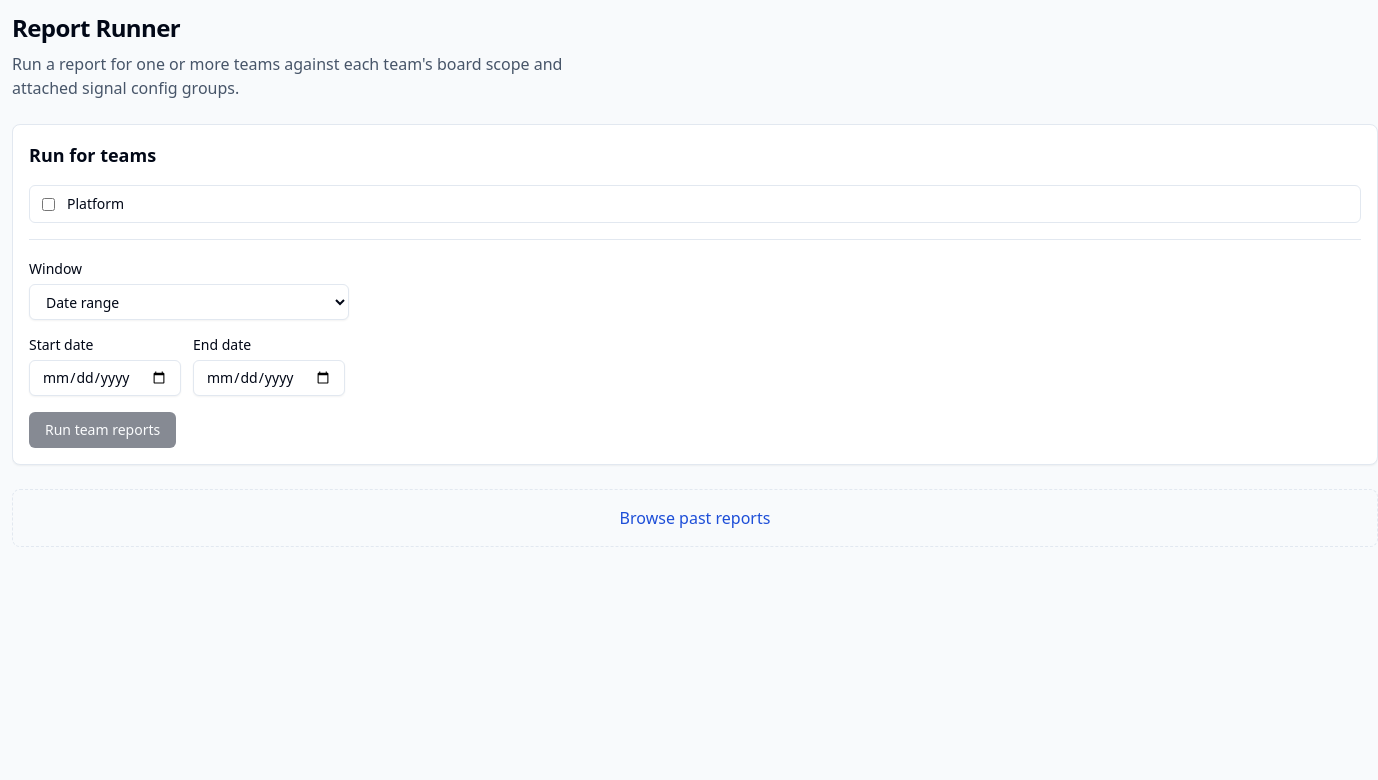
Scenario: ReportRunnerPage › renders the Active sprint option for a scrum team and defaults to sprint mode
Click the checkbox labelled "Platform".
click(48, 204)  # box [42,198,55,210]
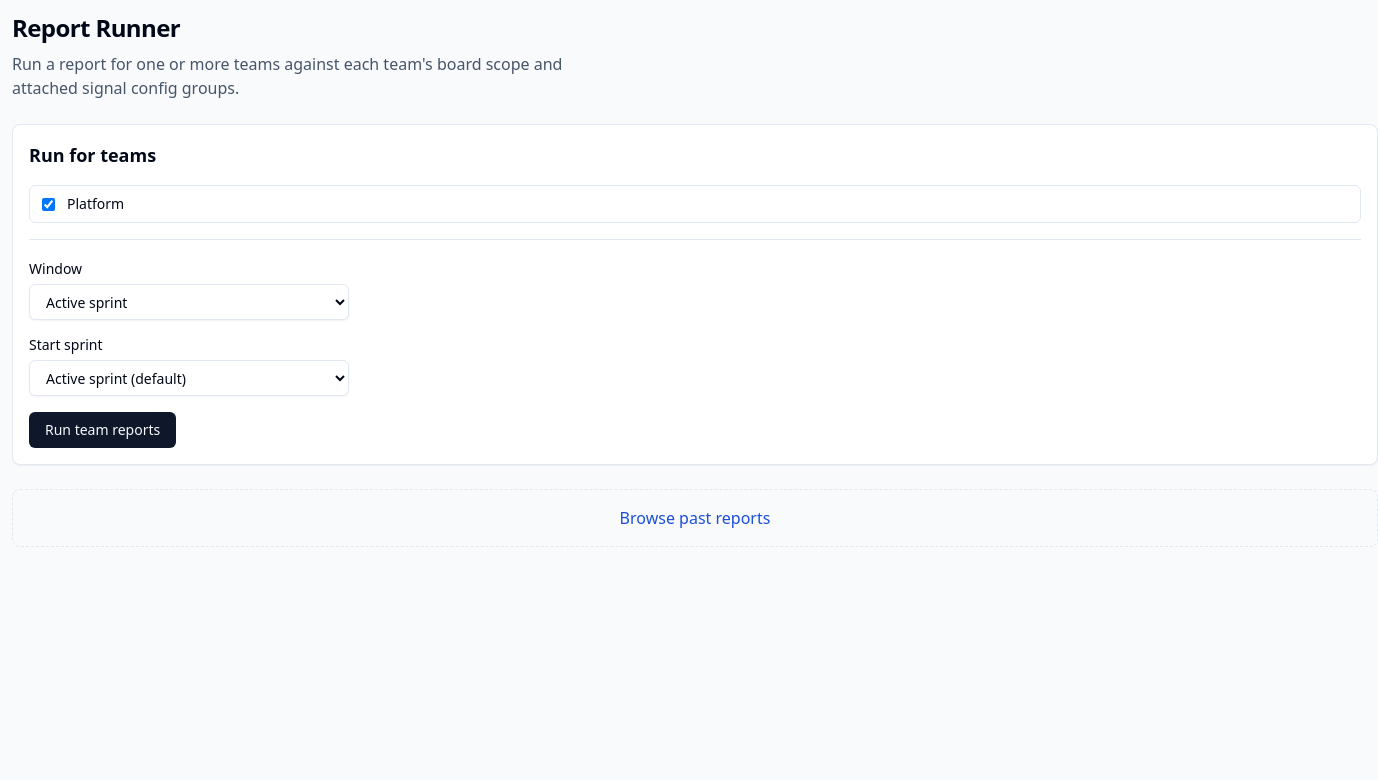
expect the dropdown labelled "Window" shows "Active sprint": met, box [29,284,349,320]
expect the label labelled "Start date" is gone: met
